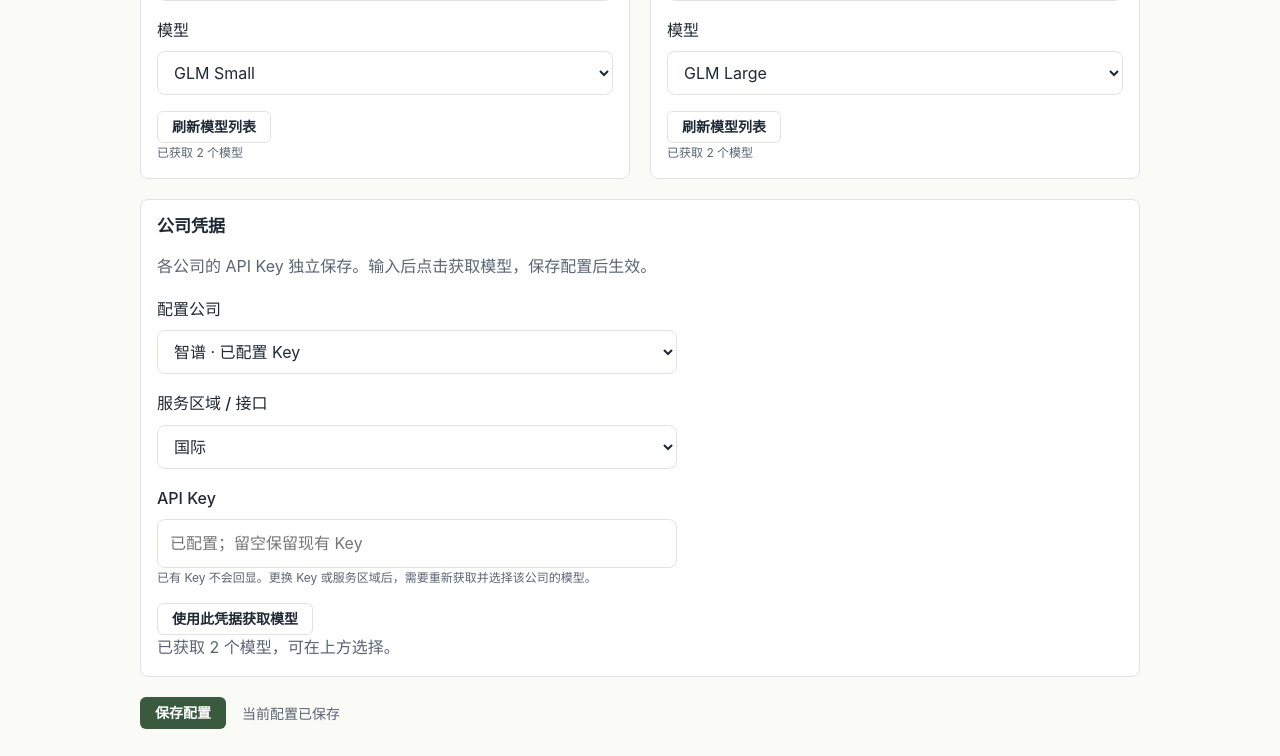
it: explains that switching endpoints requires a new key and displays sanitized API errors
(page scrolled)
Select "中国" in the dropdown labelled "服务区域 / 接口" at (417, 447), box [157,425,677,469]
(page scrolled)
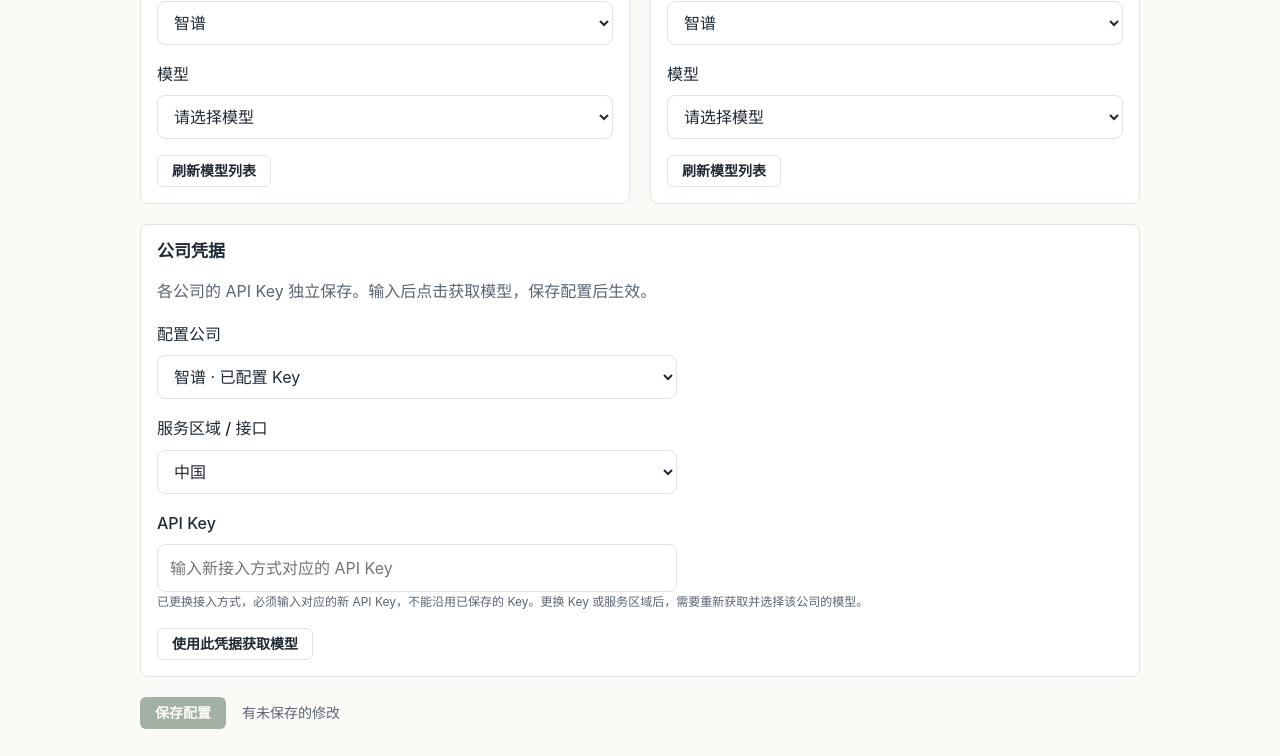
Now the text "已更换接入方式，必须输入对应的新 API Key" is shown, box [157,594,540,609]
Click the button "使用此凭据获取模型" at (235, 644), box [157,628,313,660]
(page scrolled)
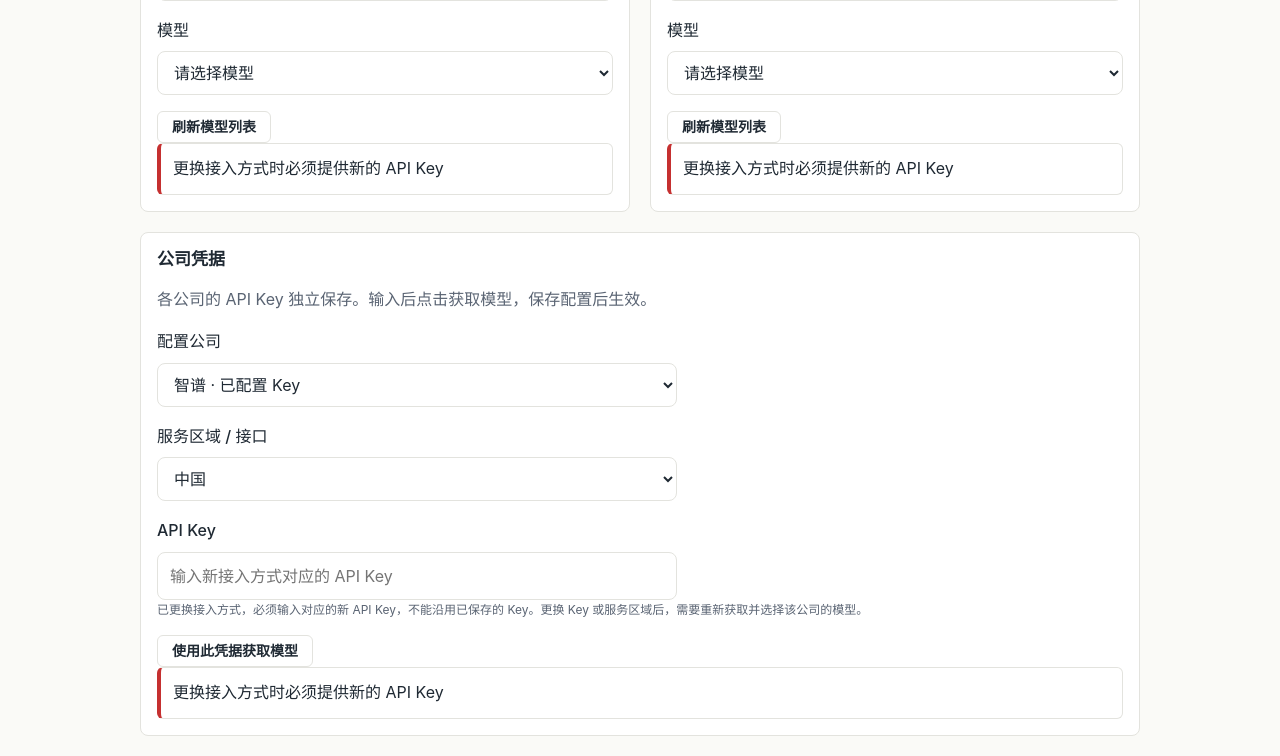
Now the 1st text "更换接入方式时必须提供新的 API Key" is shown, box [157,143,613,195]
